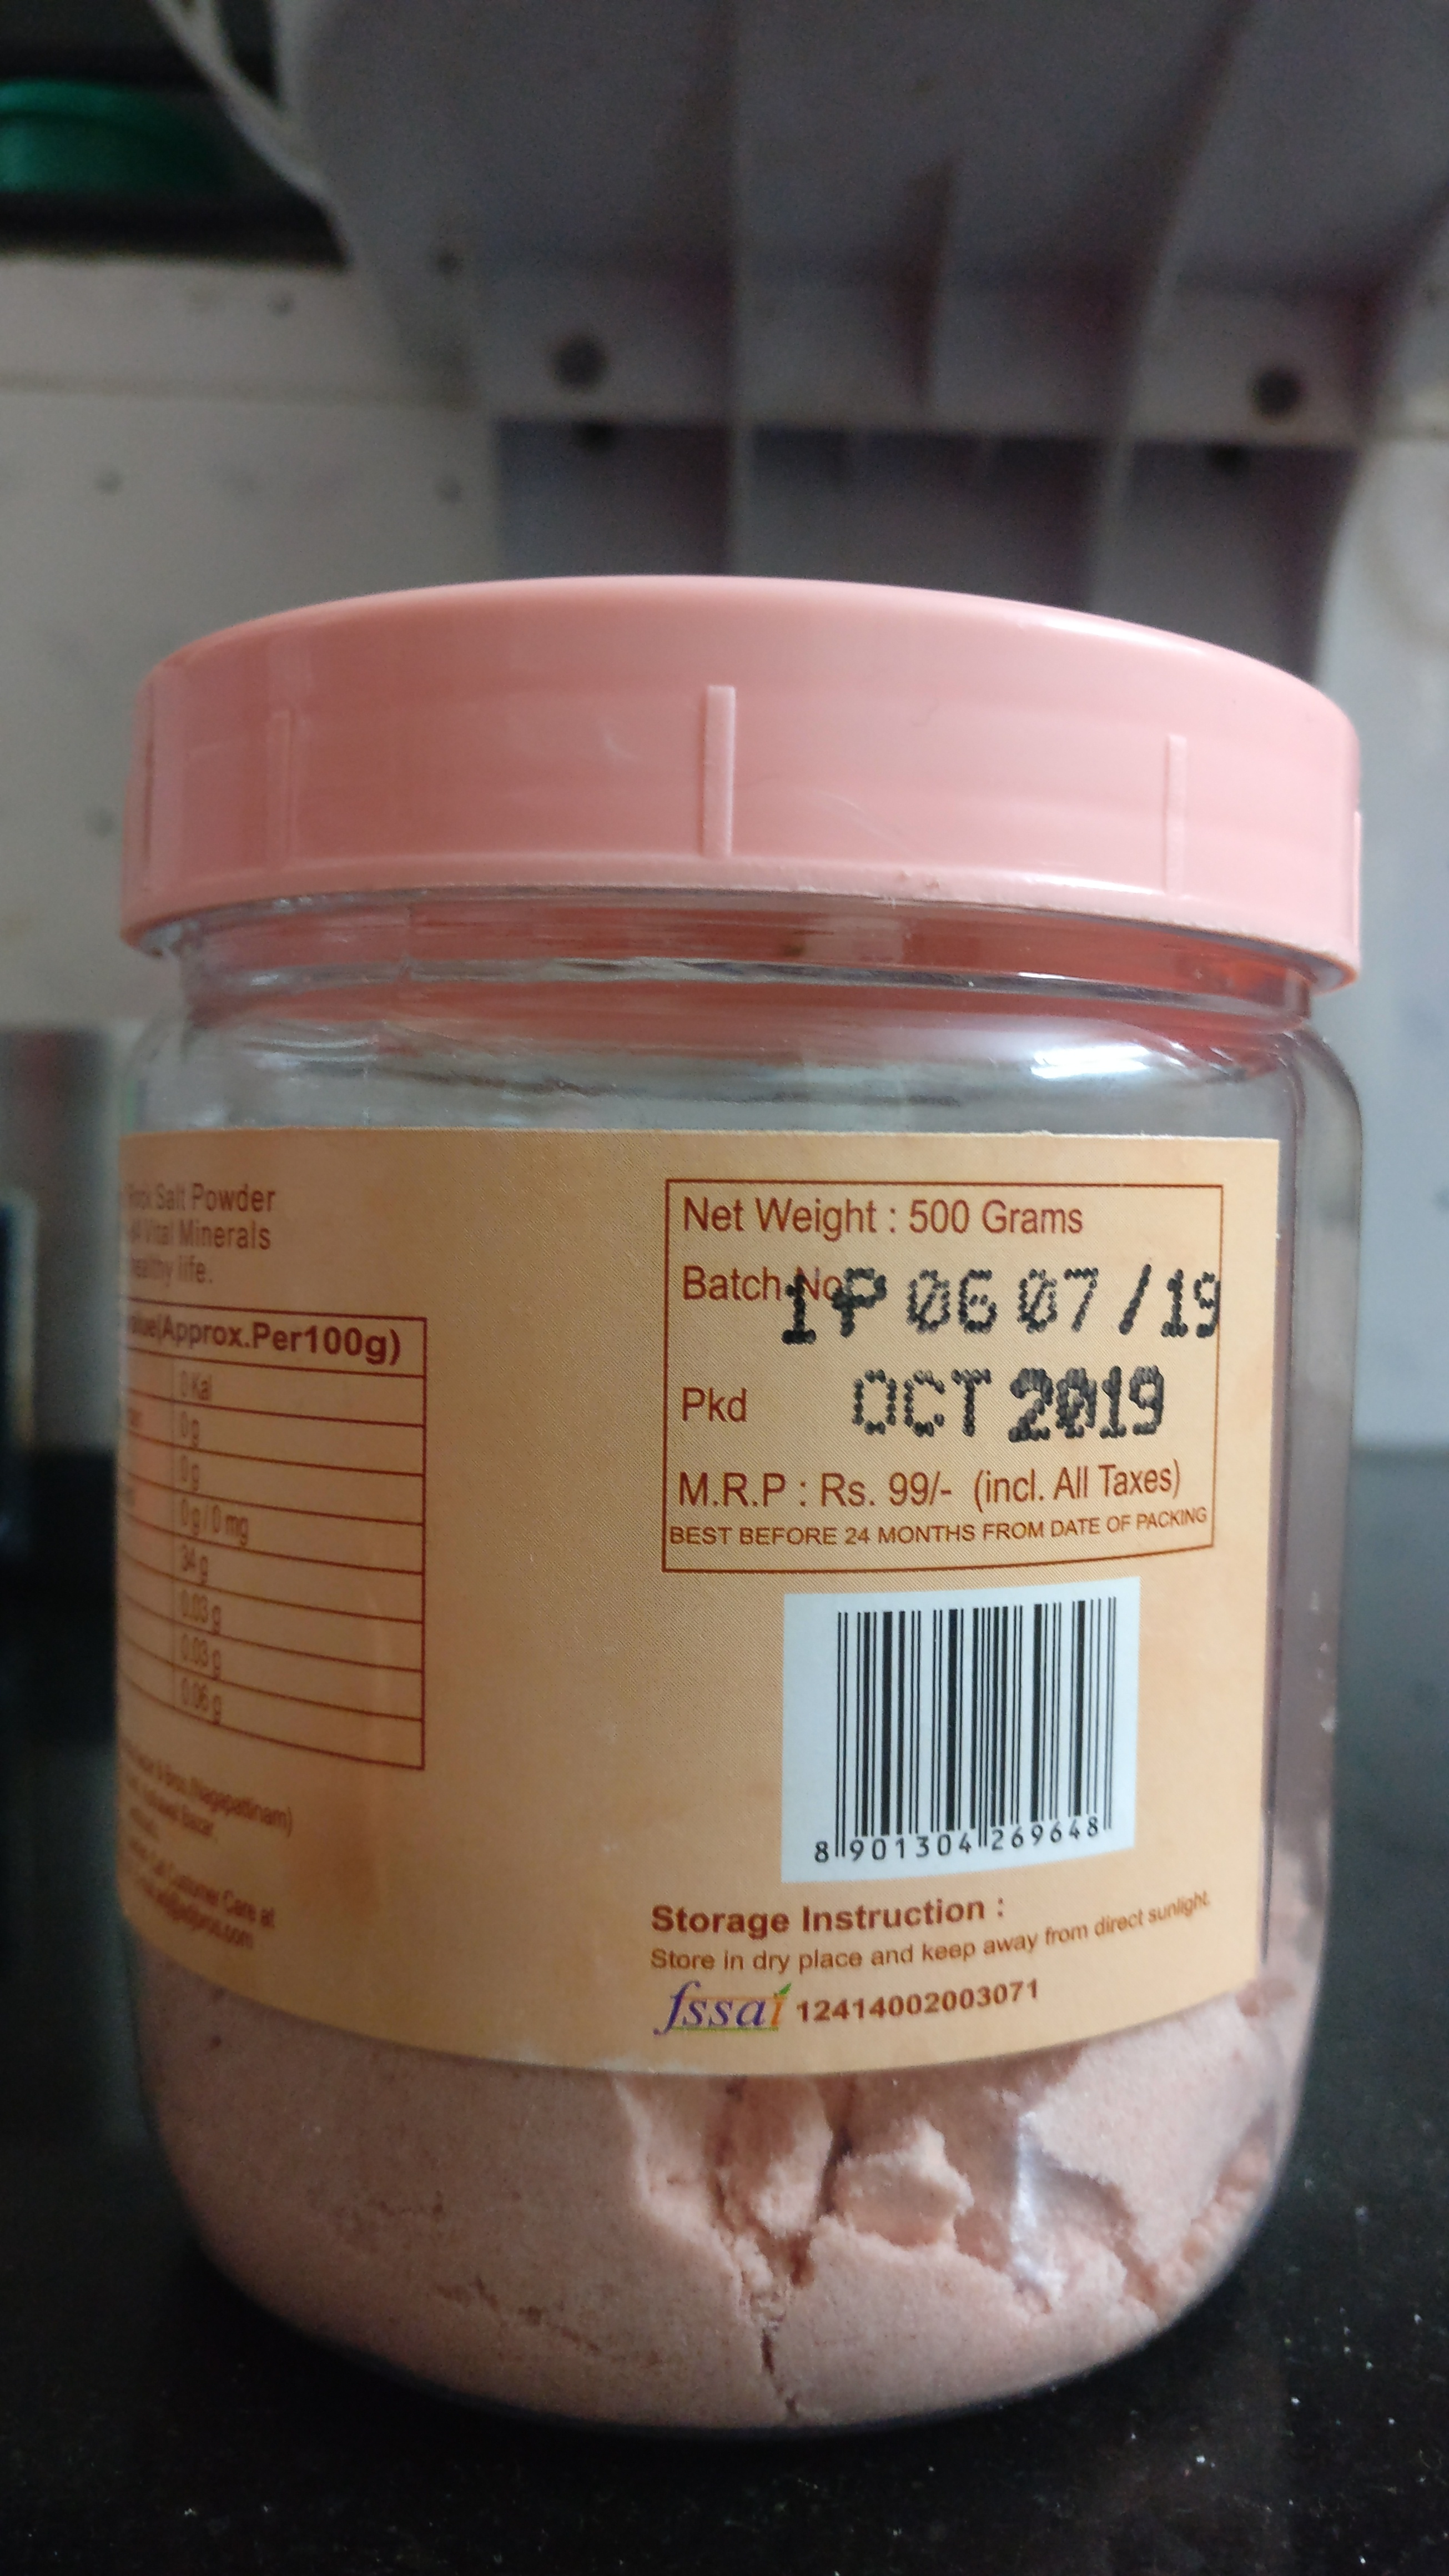barcode: (789, 1575, 1141, 1868)
